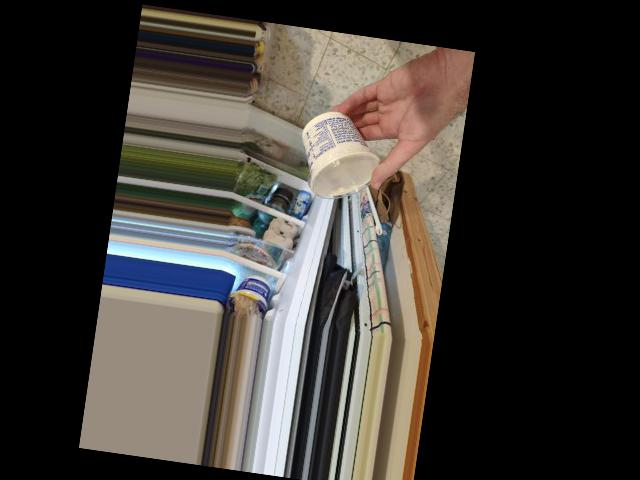cotage: (296, 115, 380, 207)
